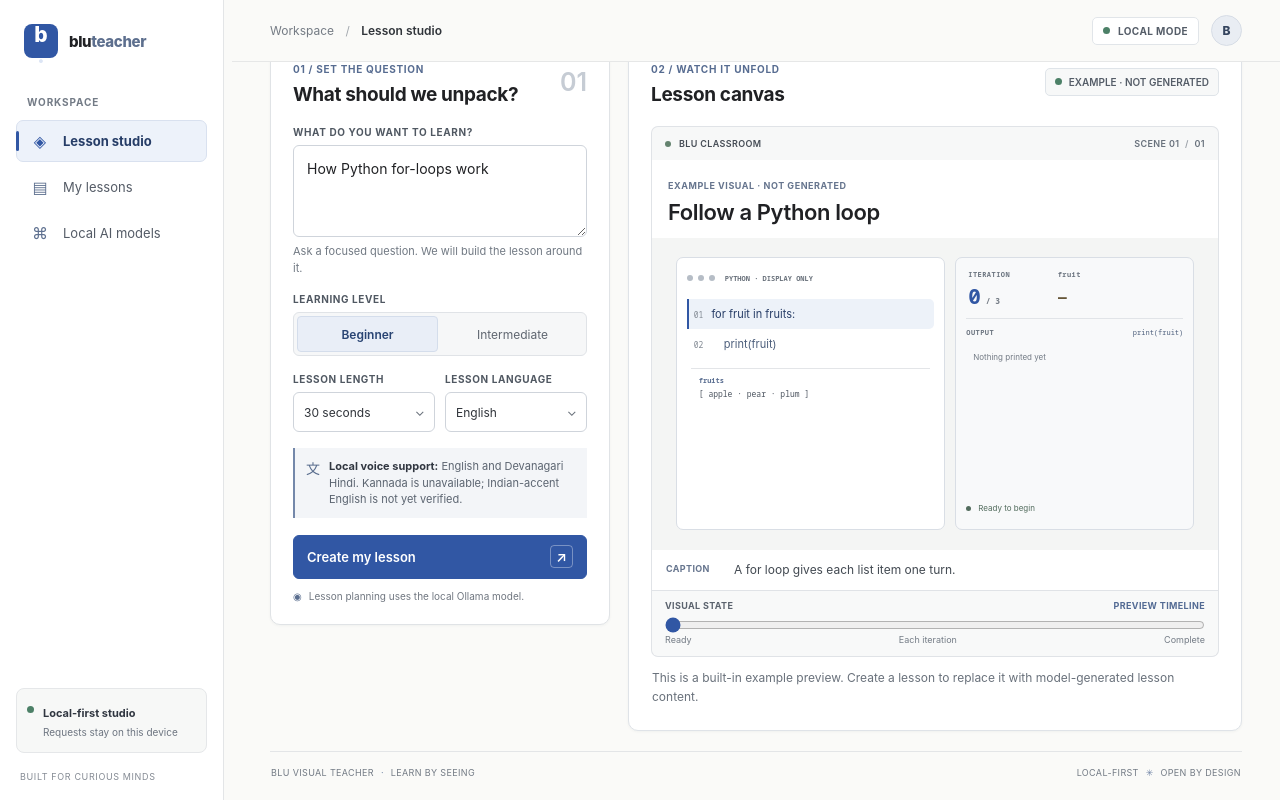
lesson studio API integration › prevents repeated submissions while the local API request is pending
(page scrolled)
What coordinates should you click on to do the following:
click the button "Create my lesson ↗"
I would click on:
 (361, 556)
Its box is [293, 534, 587, 578].
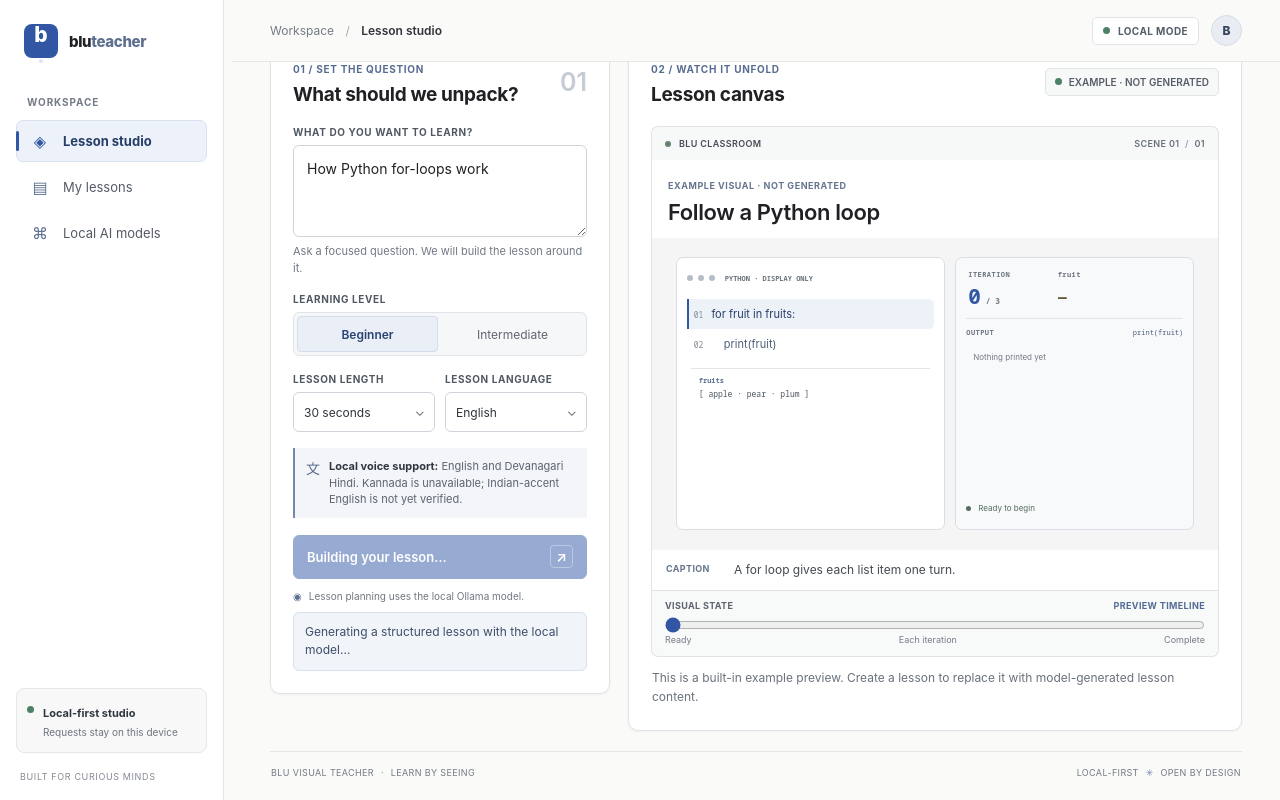
Now the button "Building your lesson… ↗" is disabled
Now the message shows "Generating a structured lesson with the local model", box [305, 624, 558, 657]
What coordinates should you click on to do the following:
click the button "Building your lesson… ↗"
I would click on:
 (440, 556)
Its box is [293, 534, 587, 578].
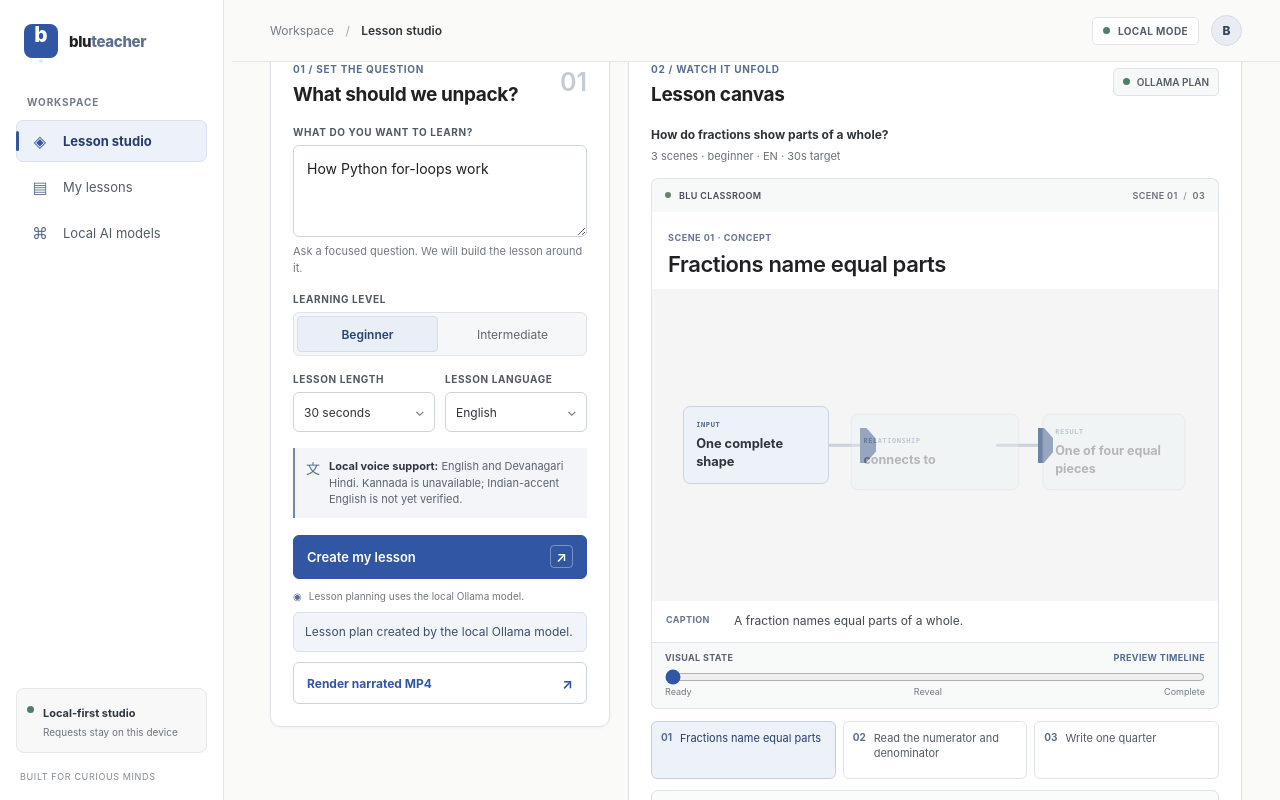
Now the text "OLLAMA PLAN" is shown, box [1113, 68, 1219, 96]
